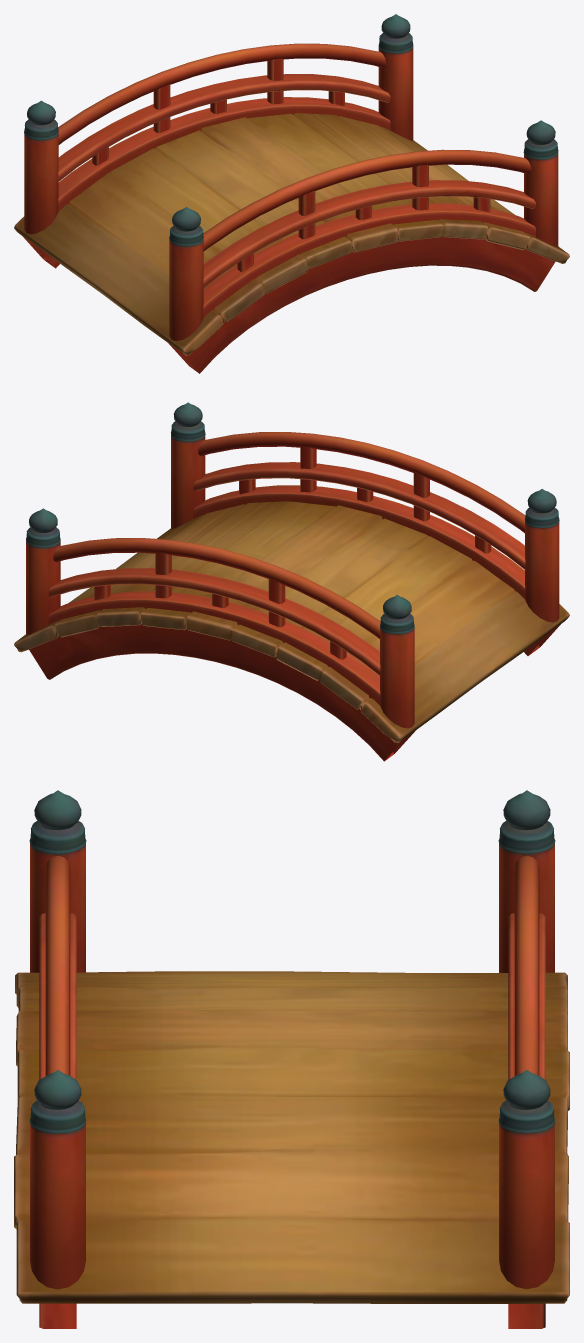
The model's file is bridge-red.glb.
3 views of the same model, one above another, from view 1: azimuth 30°, elevation 25°; view 2: azimuth 150°, elevation 25°; view 3: azimuth 270°, elevation 25° (orthographic). The views are drawn at different scales.
Size of the model in its own units: 38.65 by 15.97 by 29.64.
1 material, 1 textured.
